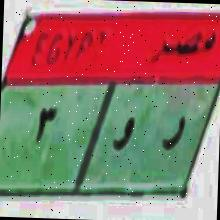3: (32, 102, 58, 155)
raa: (159, 104, 185, 166)
waw: (109, 113, 136, 159)
